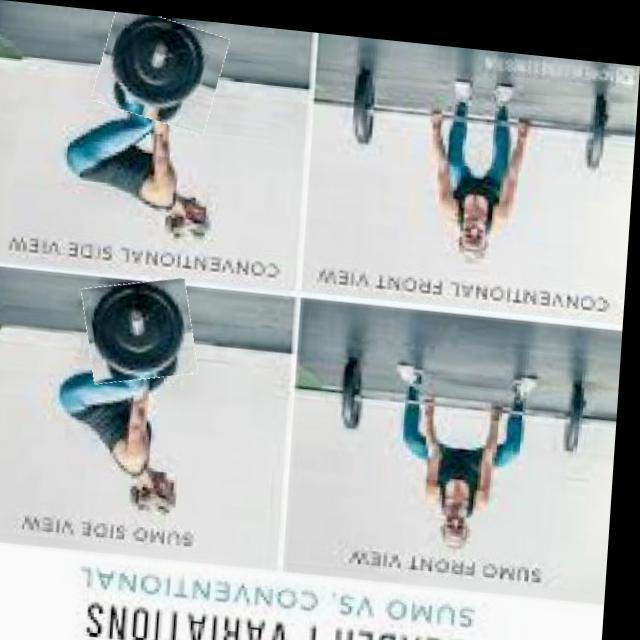barbell: (97, 9, 228, 128), (85, 272, 204, 386)
